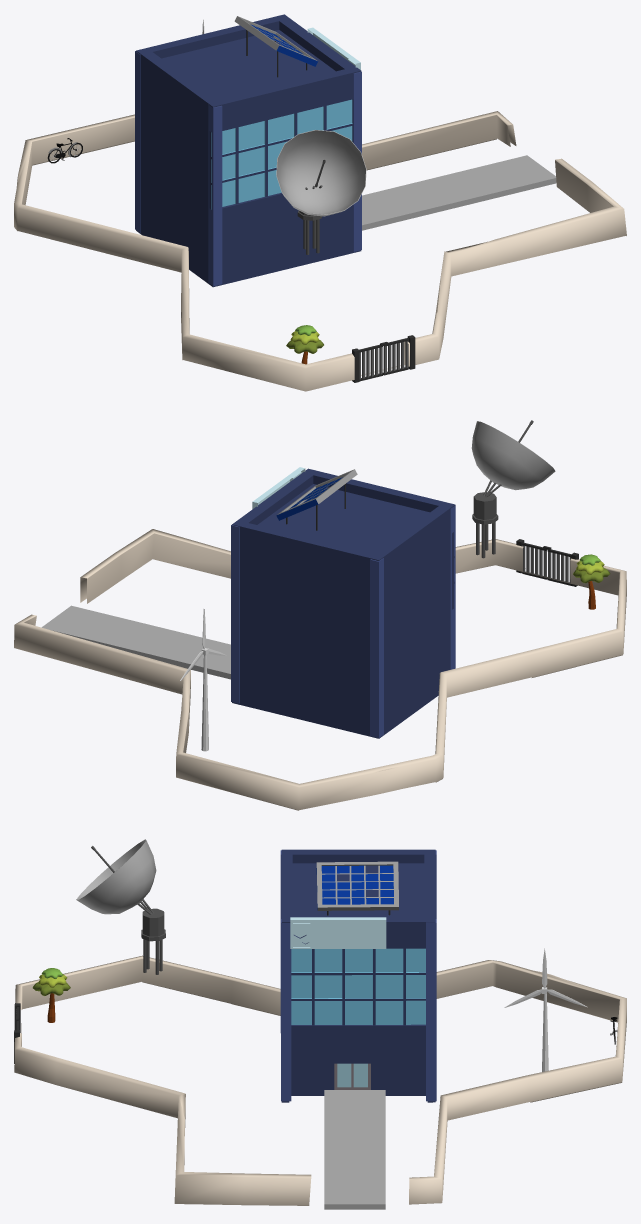
Rendered from Research Merged optmesed.fbx.
3 renders of one model, top to bottom at view 1: azimuth 30°, elevation 25°; view 2: azimuth 150°, elevation 25°; view 3: azimuth 270°, elevation 25°, orthographic.
Parts seen in each view (by area): view 1: Main Solar building, Wall, Antenna, Path, Gate, Solar, Tree1.002; view 2: Main Solar building, Wall, Path, Antenna, Gate, Solar, windmill, Tree1.002; view 3: Main Solar building, Wall, Path, Antenna, Solar, windmill, Tree1.002.
Part boxes in pixels (x1,y1,x2,y2): Main Solar building: (135, 14, 361, 287); Wall: (14, 111, 626, 391); Antenna: (276, 130, 366, 254); Path: (362, 155, 556, 230); Gate: (352, 335, 415, 382); Solar: (234, 16, 317, 77); Tree1.002: (286, 325, 323, 364); Main Solar building: (231, 467, 455, 738); Wall: (14, 529, 626, 810); Path: (41, 605, 230, 679); Antenna: (471, 420, 555, 558); Gate: (516, 539, 578, 586); Solar: (276, 469, 357, 530); windmill: (180, 609, 226, 751); Tree1.002: (573, 554, 610, 609); Main Solar building: (280, 849, 436, 1102); Wall: (14, 955, 626, 1205); Path: (324, 1090, 385, 1209); Antenna: (76, 839, 165, 974); Solar: (316, 861, 398, 915); windmill: (504, 948, 587, 1071); Tree1.002: (32, 968, 70, 1022).
Bounding box in the file's own units: 266 × 115 × 301.
